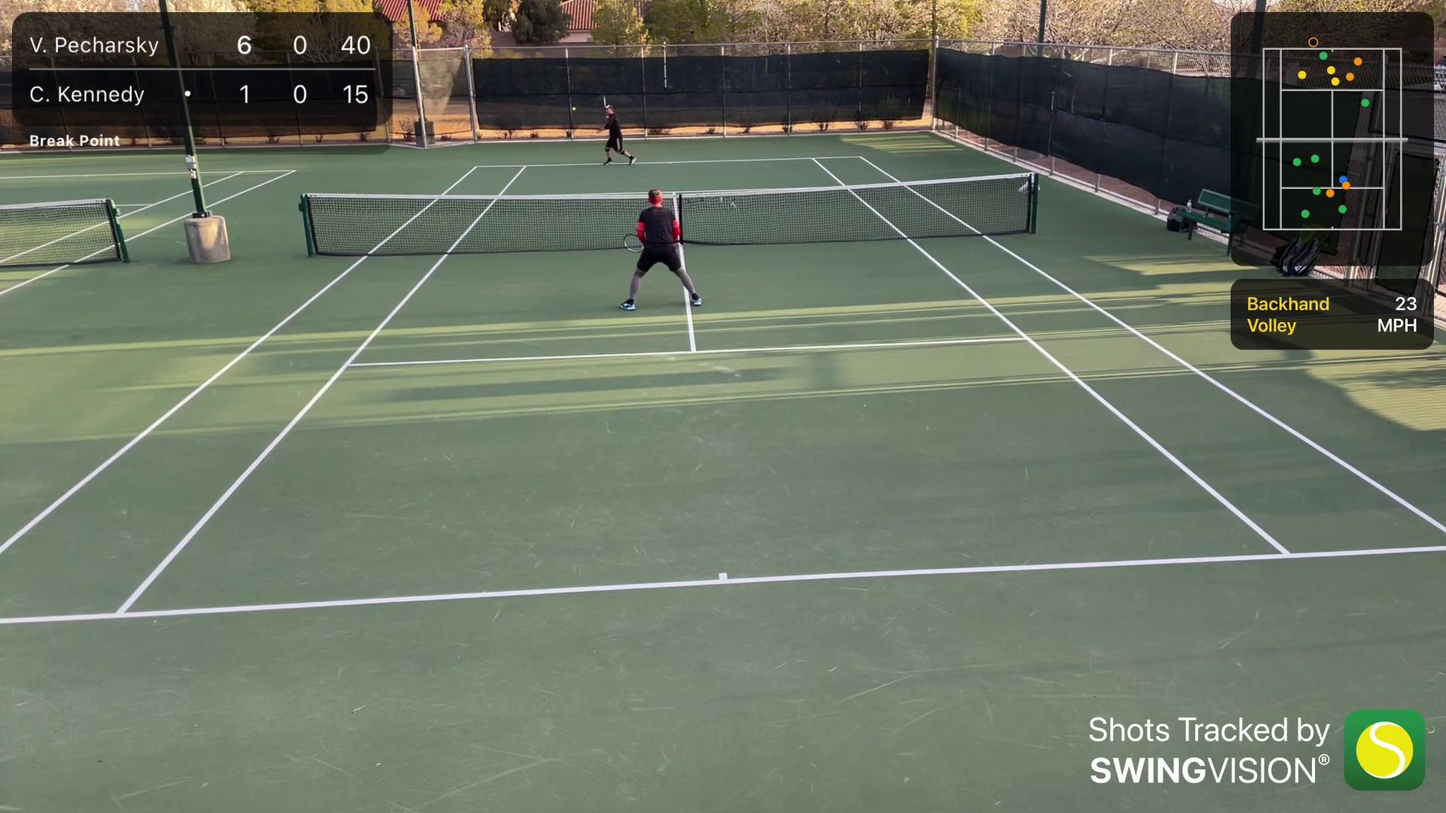ball: (571, 106, 577, 112)
